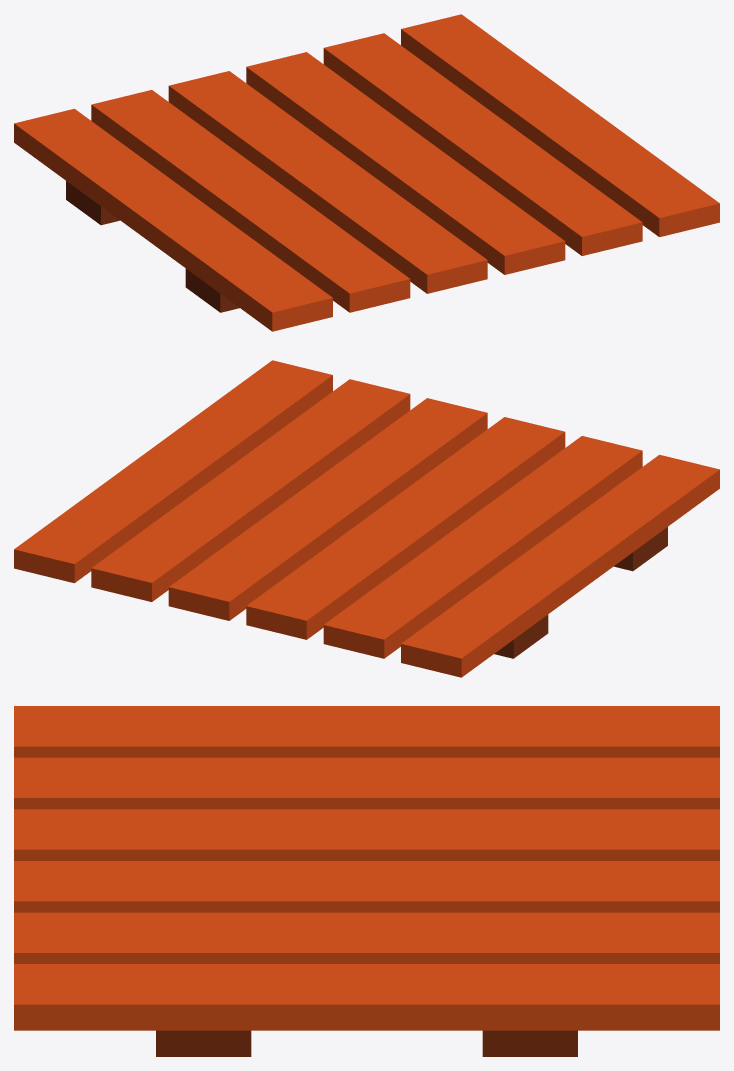
Rendered from floor.obj.
The picture shows the model from 3 angles, top to bottom: view 1: azimuth 30°, elevation 25°; view 2: azimuth 150°, elevation 25°; view 3: azimuth 270°, elevation 25°; orthographic projection. The views are drawn at different scales.
Parts seen in each view (by area): view 1: floor; view 2: floor; view 3: floor.
Part boxes in pixels (box(x1,y1,x2,y2)): floor: box(14, 14, 719, 331); floor: box(14, 360, 719, 677); floor: box(14, 706, 719, 1056).
Size of the model in its own units: 0.4893 by 0.04 by 0.4893.
